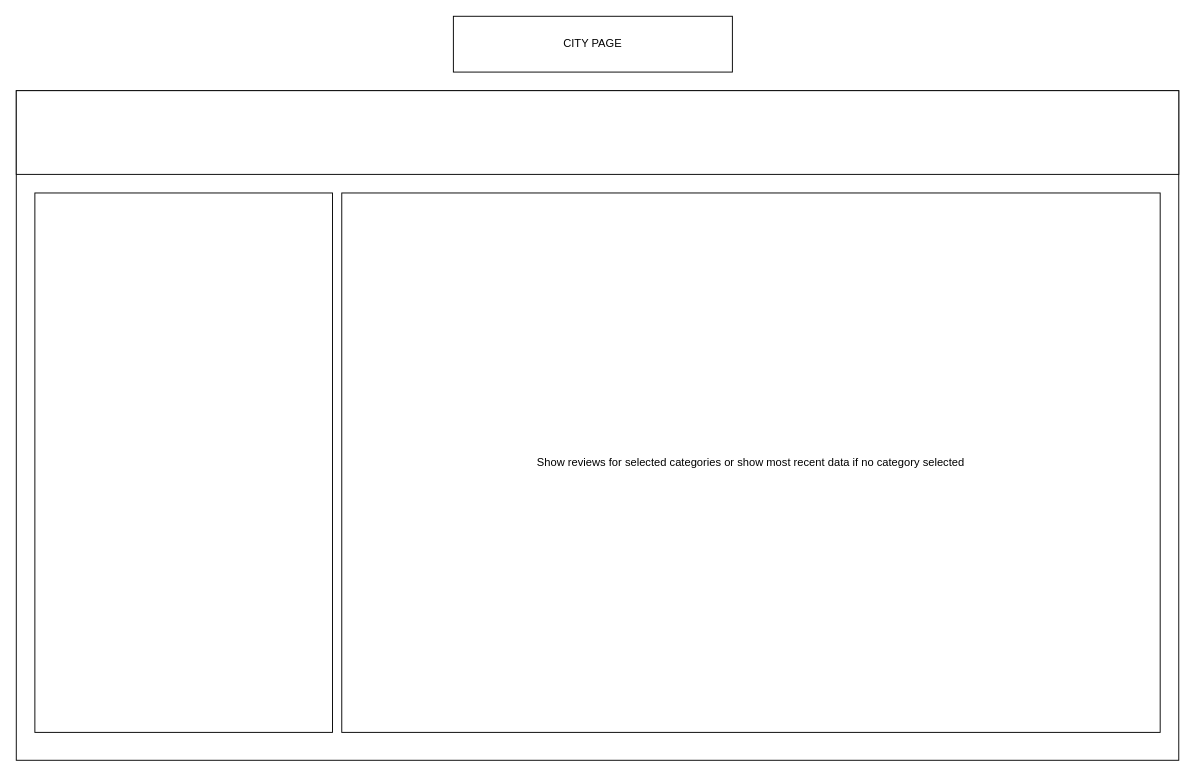
Some shapes in this 1195 by 777 pixel diagram are drawn without their labels. The centre of each missing label's shape, as x and y in pixels:
List all categories for selected city here: [183,462]
Navbar: [597,132]
